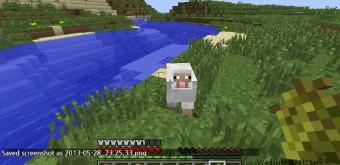sheep: (165, 62, 198, 118)
